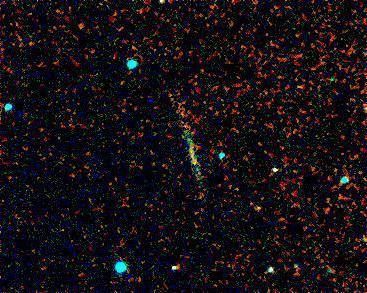star: (66, 11, 96, 41)
